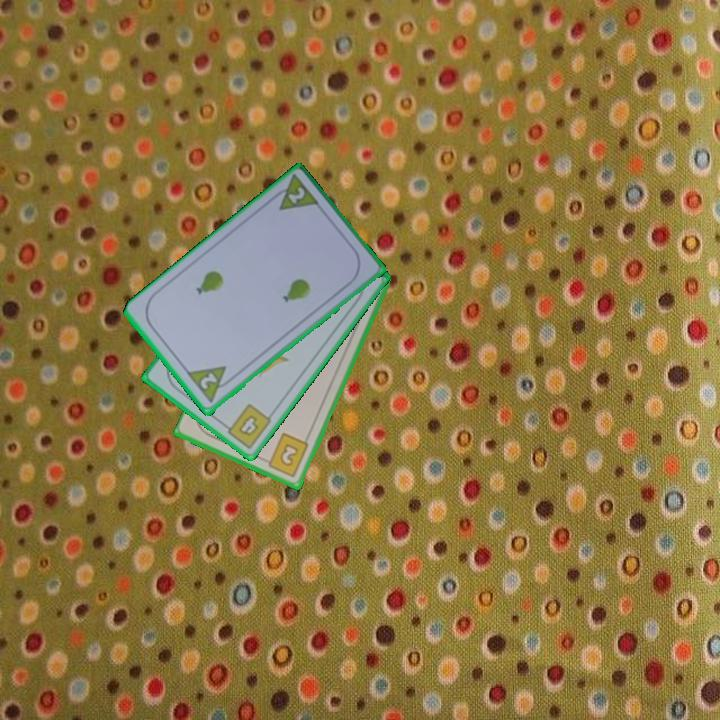2b: (260, 430, 312, 480)
2p: (184, 362, 237, 407), (266, 172, 322, 214)
4b: (219, 400, 274, 452)
